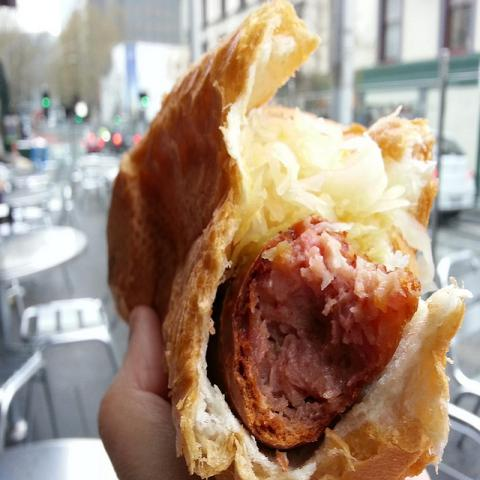car: (368, 94, 478, 220), (81, 122, 120, 154)
